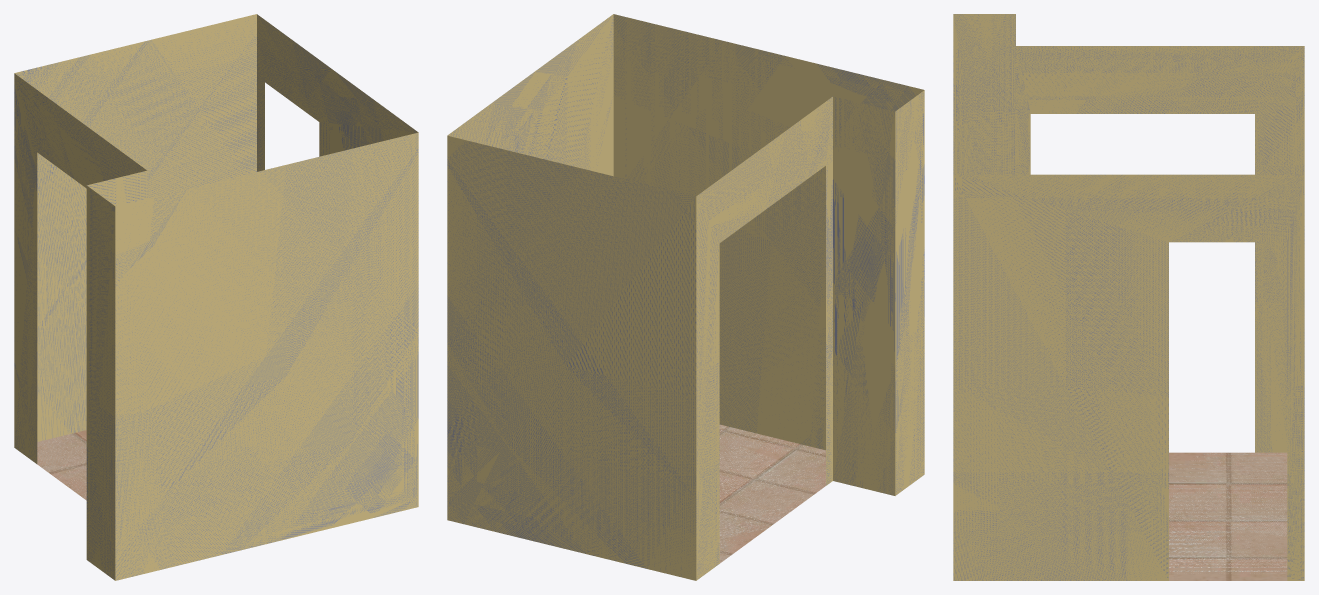
The model's file is COM010.obj.
3 renders of one model, left to right at view 1: azimuth 30°, elevation 25°; view 2: azimuth 150°, elevation 25°; view 3: azimuth 270°, elevation 25°, orthographic. The views are drawn at different scales.
Visible parts, largest first — view 1: Mesh1 COM010 Model; view 2: Mesh1 COM010 Model; view 3: Mesh1 COM010 Model.
Boxes of the visible parts, bbox=[...] form: Mesh1 COM010 Model: bbox=[14, 14, 418, 580]; Mesh1 COM010 Model: bbox=[447, 14, 924, 580]; Mesh1 COM010 Model: bbox=[953, 14, 1304, 580].
Bounding box in the file's own units: 3.05 × 3.6 × 2.82.
Materials: 4 (2 with a texture image).
